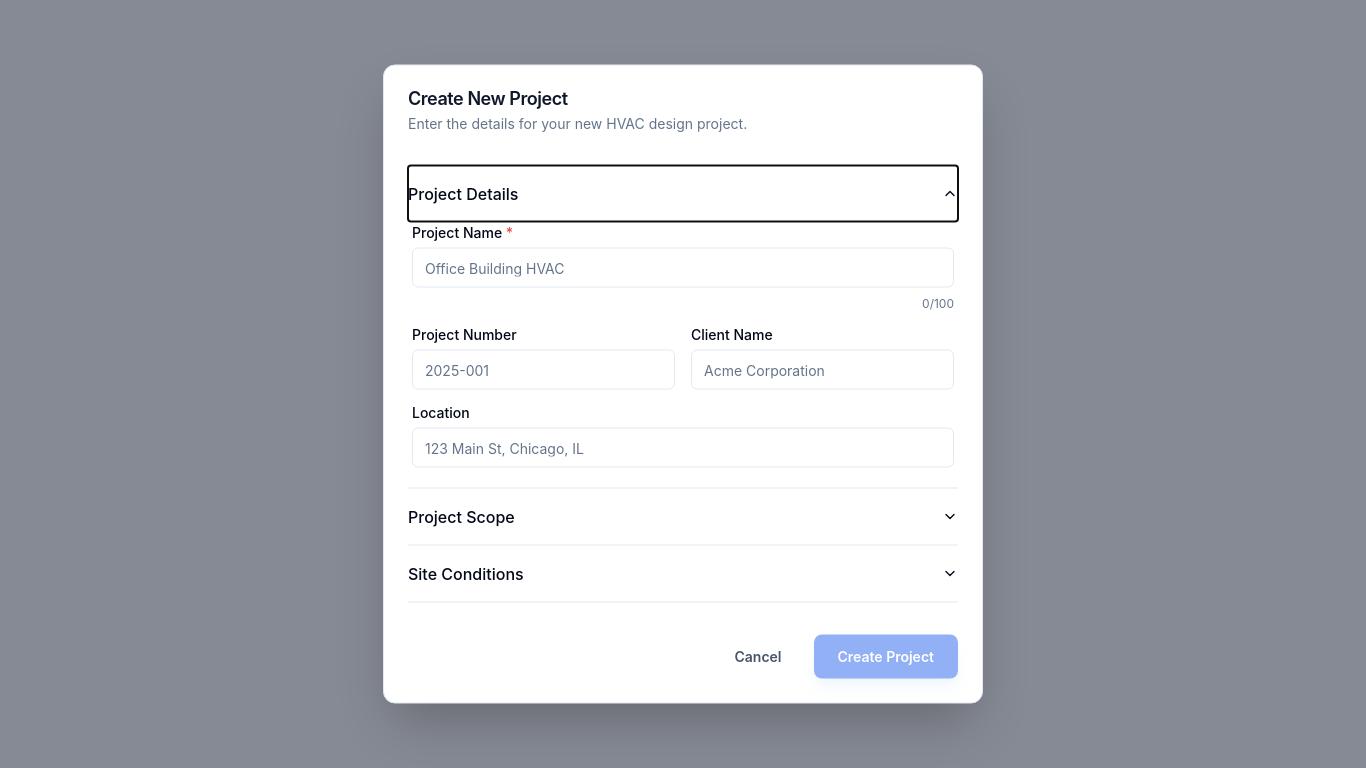
NewProjectDialog › Form Validation › should show character count for project name
The image size is (1366, 768).
Type "Test" into the field with test id "project-name-input" at (683, 268), box top-left (412, 248), bottom-right (954, 288)
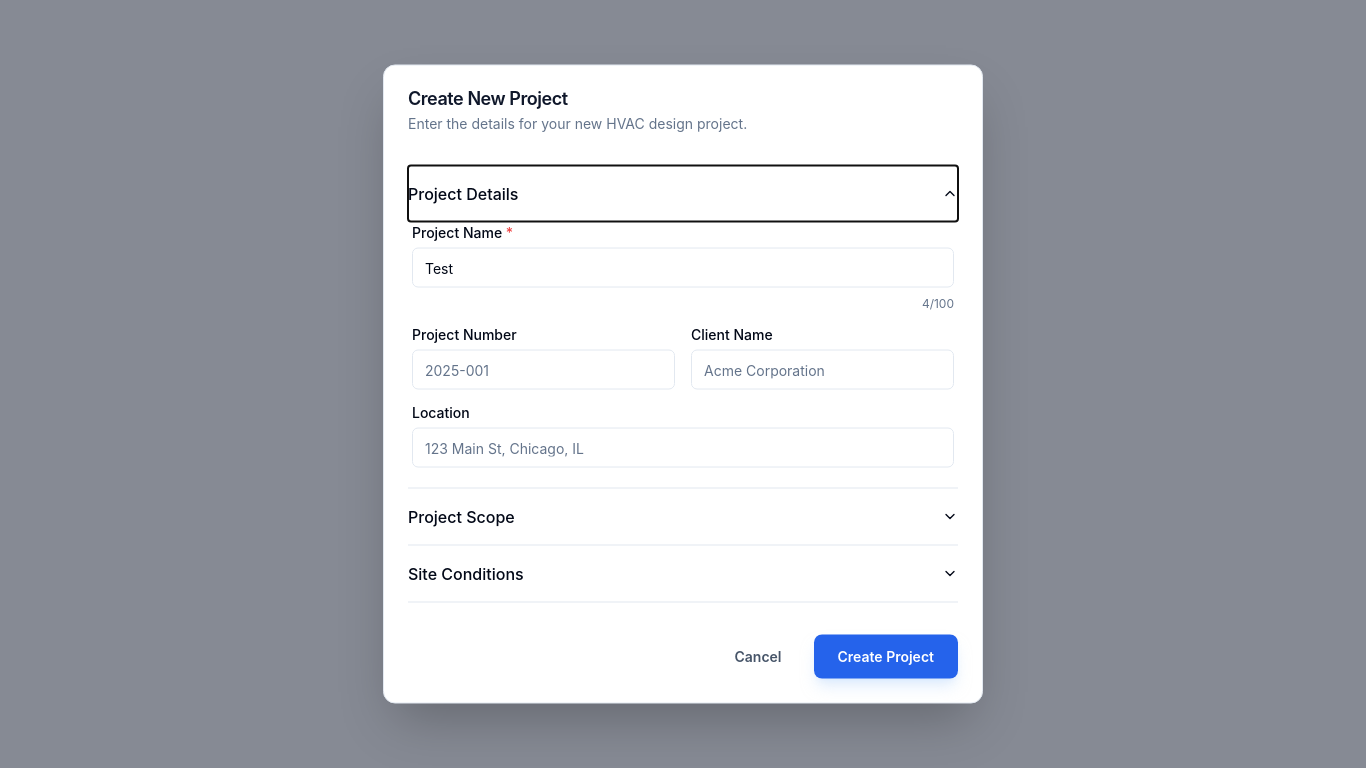
Expected: the text "4/100" is shown, top-left (922, 296), bottom-right (954, 312)
